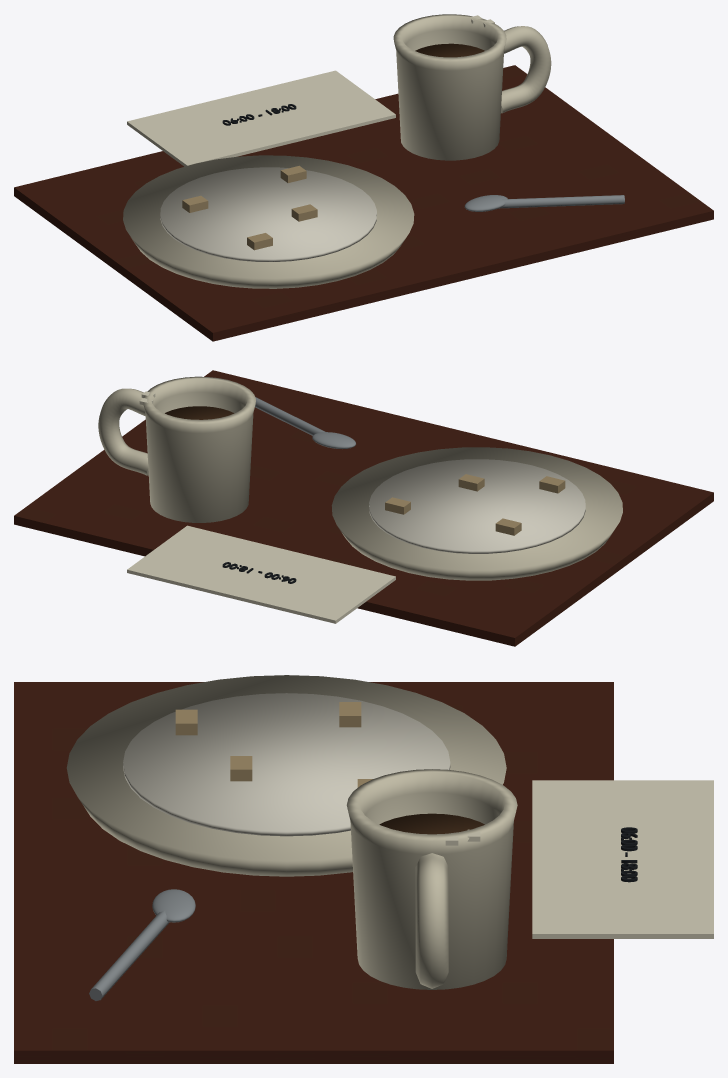
Rendered from unfinished-breakfast.glb.
The picture shows the model from 3 angles, top to bottom: view 1: azimuth 30°, elevation 25°; view 2: azimuth 150°, elevation 25°; view 3: azimuth 270°, elevation 25°; orthographic projection. The views are drawn at different scales.
Visible parts, largest first — view 1: Place mat, Plate inside, Breakfast plate, Chipped ceramic mug, Shift rota, Mug handle, Teaspoon handle, Cold tea surface, Spoon bowl; view 2: Place mat, Plate inside, Breakfast plate, Chipped ceramic mug, Shift rota, Mug handle, Teaspoon handle, Cold tea surface, Spoon bowl; view 3: Place mat, Plate inside, Shift rota, Chipped ceramic mug, Breakfast plate, Mug handle, Teaspoon handle, Cold tea surface, Spoon bowl, Shift reminder, Leftover toast crumbs.003.
Part boxes in pixels (bbox=[...]): Place mat: bbox=[14, 65, 713, 341]; Plate inside: bbox=[160, 167, 376, 261]; Breakfast plate: bbox=[123, 155, 414, 288]; Chipped ceramic mug: bbox=[393, 14, 506, 160]; Shift rota: bbox=[127, 70, 395, 166]; Mug handle: bbox=[501, 26, 551, 113]; Teaspoon handle: bbox=[498, 195, 624, 208]; Cold tea surface: bbox=[415, 43, 484, 57]; Spoon bowl: bbox=[464, 195, 507, 211]; Place mat: bbox=[14, 370, 713, 646]; Plate inside: bbox=[369, 459, 585, 553]; Breakfast plate: bbox=[331, 447, 622, 580]; Chipped ceramic mug: bbox=[143, 376, 255, 522]; Shift rota: bbox=[127, 525, 395, 623]; Mug handle: bbox=[98, 388, 148, 475]; Teaspoon handle: bbox=[255, 397, 325, 435]; Cold tea surface: bbox=[165, 406, 234, 419]; Spoon bowl: bbox=[312, 432, 355, 448]; Place mat: bbox=[14, 682, 613, 1063]; Plate inside: bbox=[123, 693, 450, 836]; Shift rota: bbox=[532, 780, 713, 938]; Chipped ceramic mug: bbox=[346, 769, 517, 989]; Breakfast plate: bbox=[66, 675, 506, 876]; Mug handle: bbox=[415, 853, 448, 988]; Teaspoon handle: bbox=[89, 910, 169, 1000]; Cold tea surface: bbox=[379, 813, 484, 834]; Spoon bowl: bbox=[152, 889, 195, 922]; Shift reminder: bbox=[621, 827, 637, 882]; Leftover toast crumbs.003: bbox=[175, 709, 197, 735].
Bounding box in the file's own units: 0.48 × 0.102 × 0.385.
8 materials, 1 textured.
